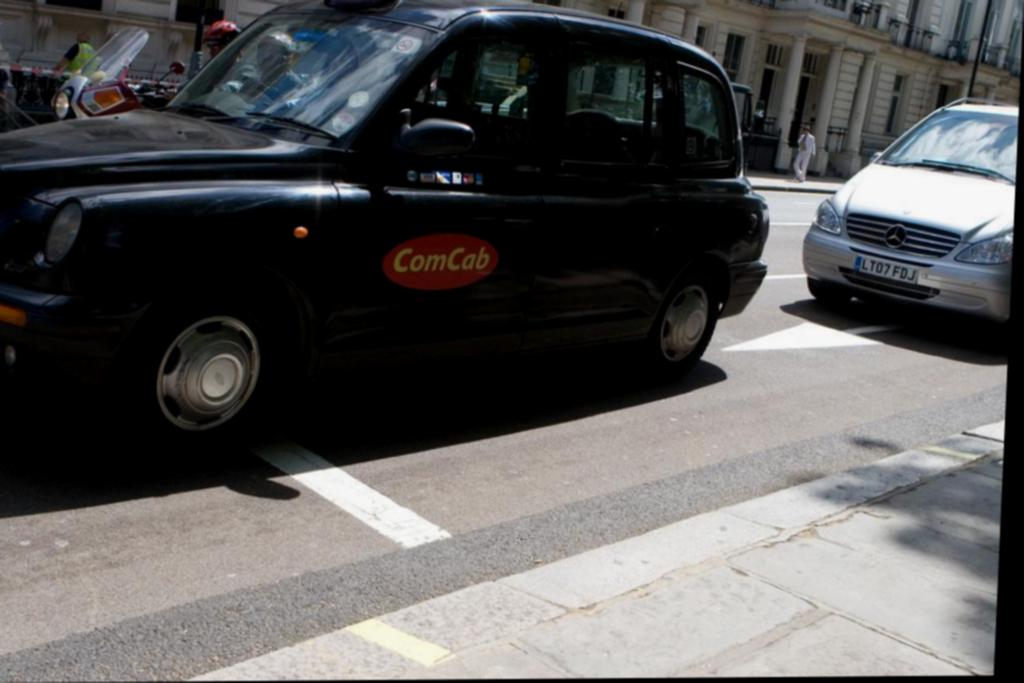License_Plate: (854, 255, 919, 283)
